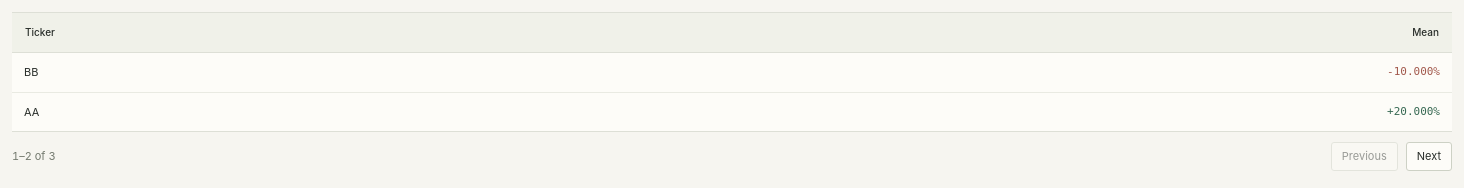
sorts and paginates a presentation copy without changing source returns
The width and height of the screenshot is (1464, 188).
Click the button "Mean" at (1426, 32), box [1400,14,1451,51]
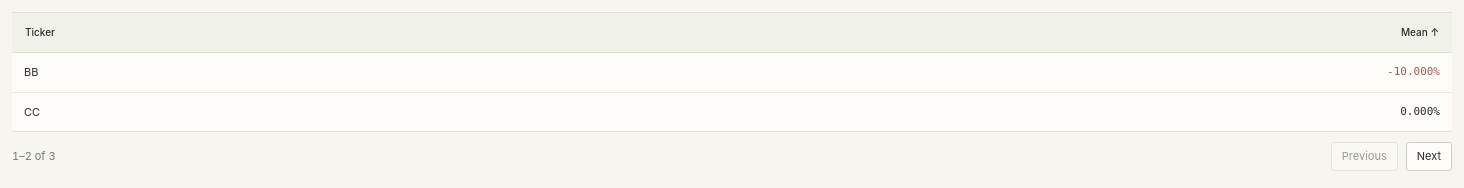
Expected: the row "BB -10.000%" is shown, [12,53,1452,92]
Click the button "Next" at (1429, 156), box [1406,142,1452,170]
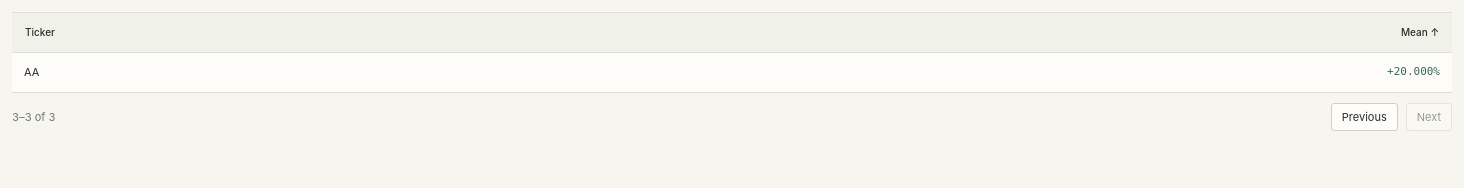
Now the table shows "AA", box [24,65,39,79]
